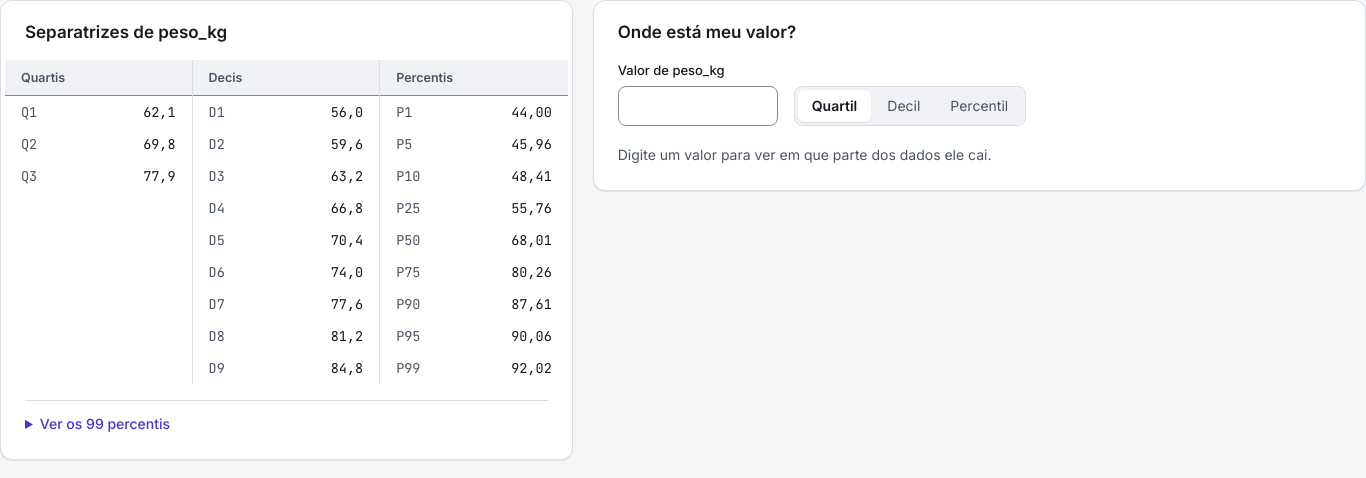
Test case: AbaSeparatrizes › consulta a posição depois da pausa na digitação e destaca a separatriz
The width and height of the screenshot is (1366, 478).
Type "75" into the field labelled "Valor de peso_kg" at x=698, y=106, box [618,86,778,126]
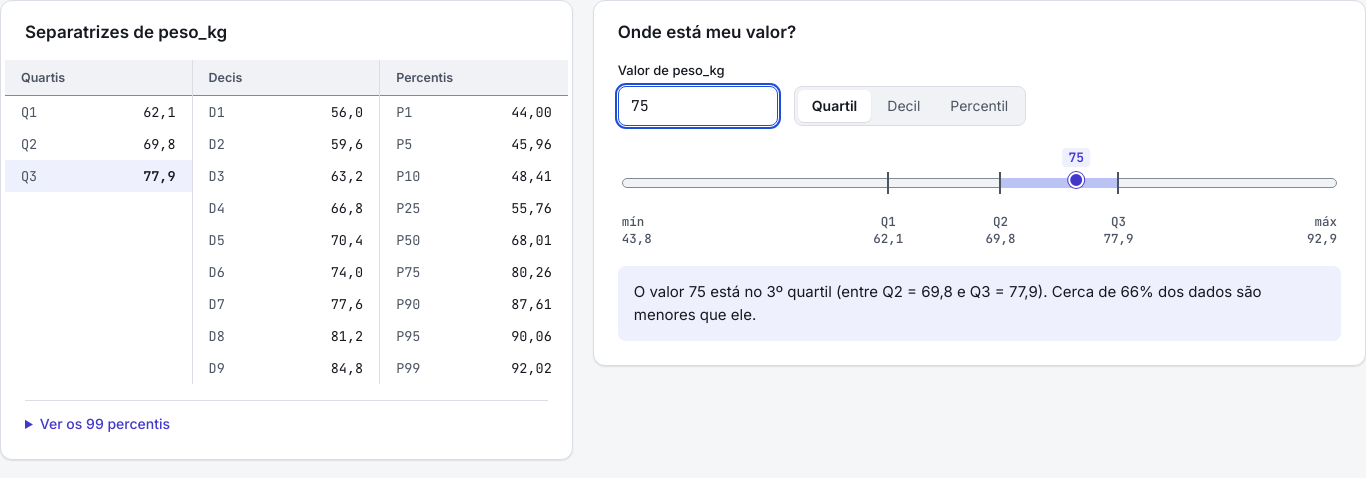
Now the text "O valor 75 está no 3º quartil (entre Q2 = 69,8 e Q3 = 77,9). Cerca de 66% dos dados são menores que ele." is shown, box [634,282,1262,324]
Now the picture named "fica no 3º quartil" is shown, box [618,144,1341,248]
